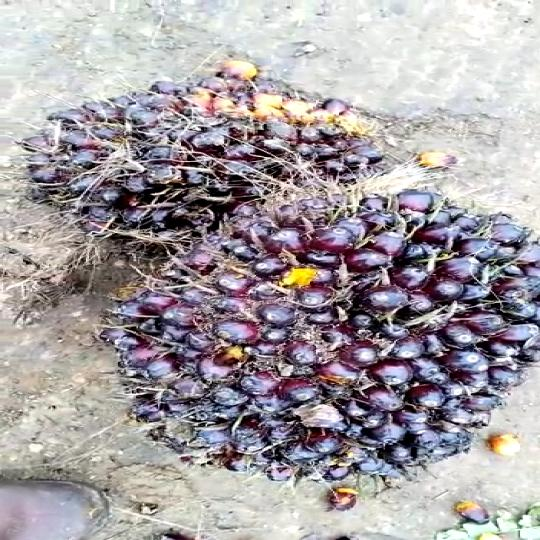kurang masak: (123, 178, 540, 493), (7, 66, 428, 260)
